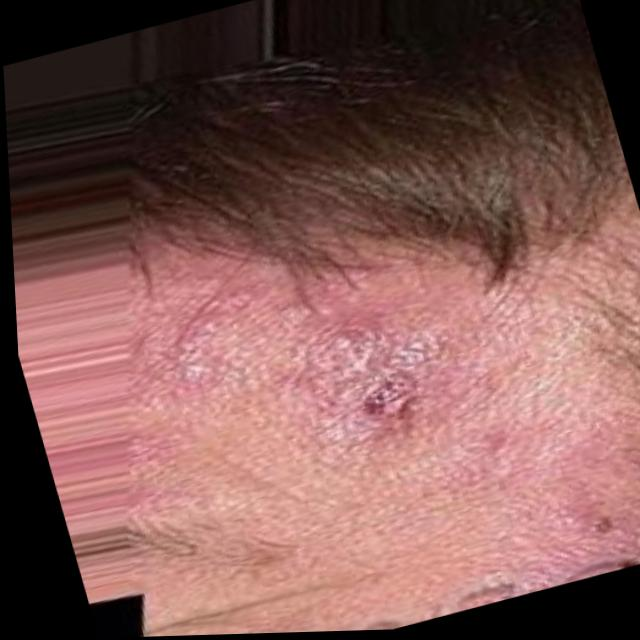Rosacea: (316, 317, 436, 438)
